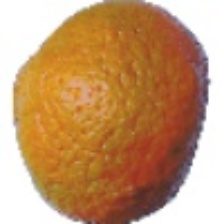tangerine: (11, 25, 199, 224)
